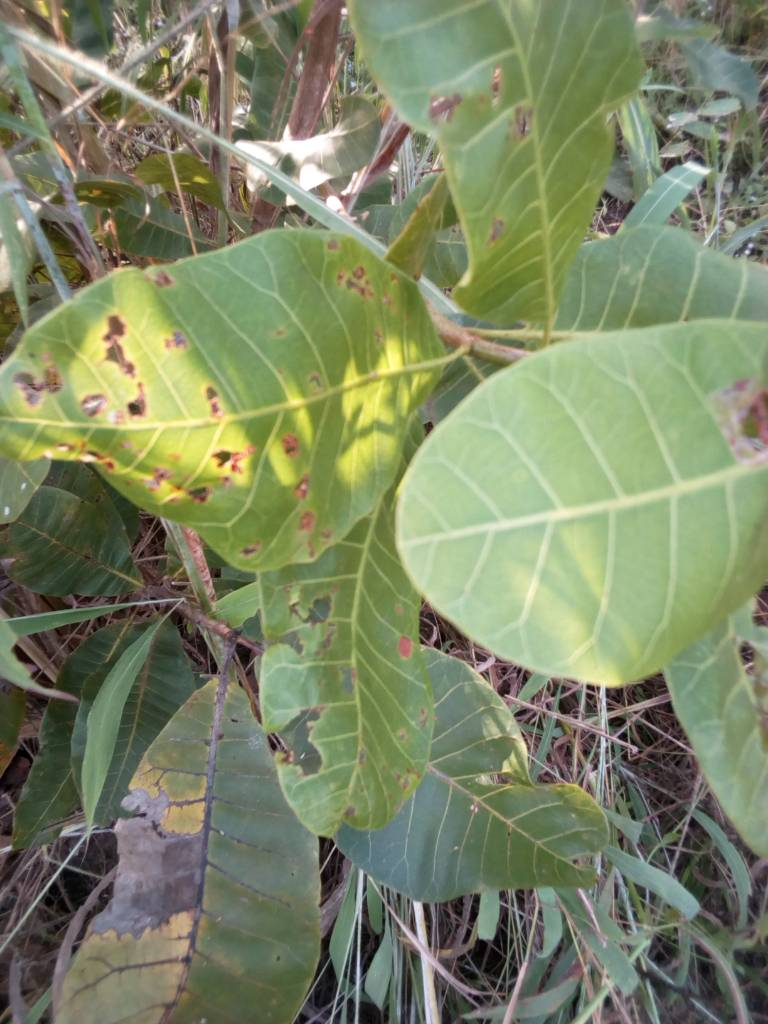Bactériose: (65, 585, 411, 1024), (1, 235, 430, 563), (421, 39, 577, 291)
